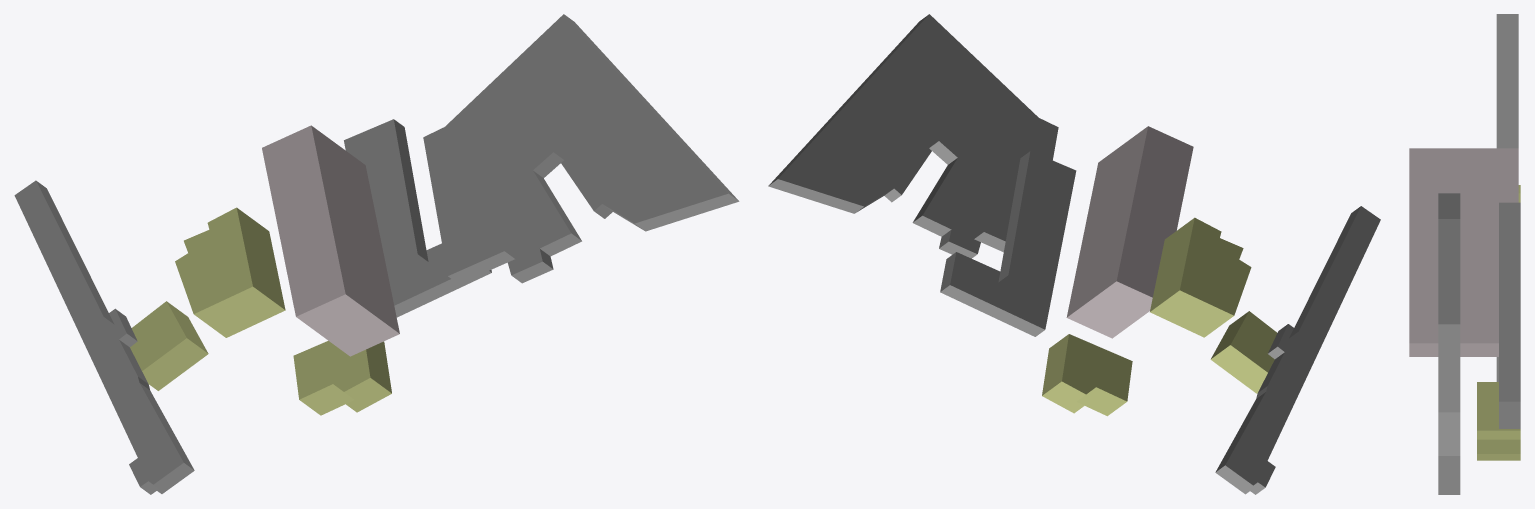
3 renders of one model, left to right at view 1: azimuth 30°, elevation 25°; view 2: azimuth 150°, elevation 25°; view 3: azimuth 270°, elevation 25°, orthographic. The views are drawn at different scales.
Parts seen in each view (by area): view 1: 0_1_0_2_0_0_2_0; view 2: 0_1_0_2_0_0_2_0; view 3: 0_1_0_2_0_0_2_0.
Boxes of the visible parts, bbox=[...] form: 0_1_0_2_0_0_2_0: bbox=[14, 14, 739, 494]; 0_1_0_2_0_0_2_0: bbox=[768, 14, 1380, 494]; 0_1_0_2_0_0_2_0: bbox=[1409, 14, 1520, 494].
Bounding box in the file's own units: 109 × 60.89 × 15.3.
